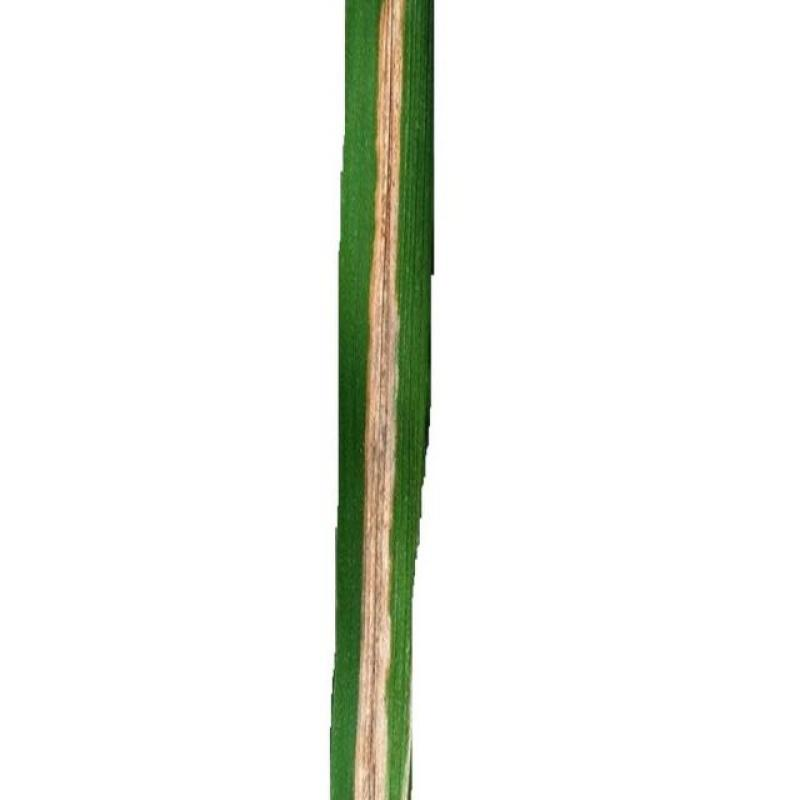Bacterial_Leaf_Blight: (346, 5, 406, 796)
